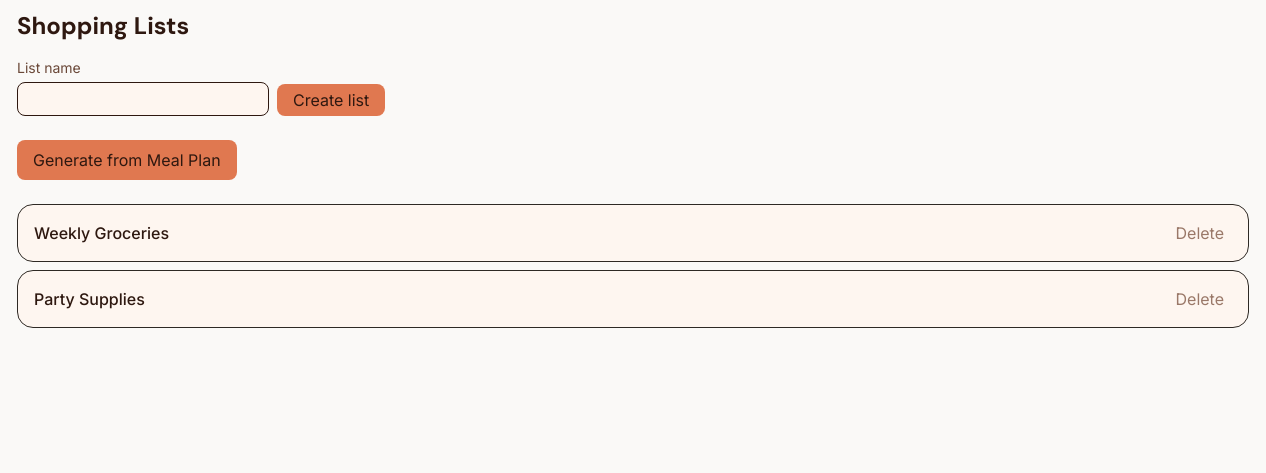
Test: ShoppingListPage › Generate from Meal Plan › should show a week picker after clicking generate button
Check: the button "Weekly Groceries" is shown, box [34,221,169,245]
What coordinates should you click on to do the following:
click the button "Generate from Meal Plan"
I would click on:
 (127, 160)
Its box is [17,140,237,180].
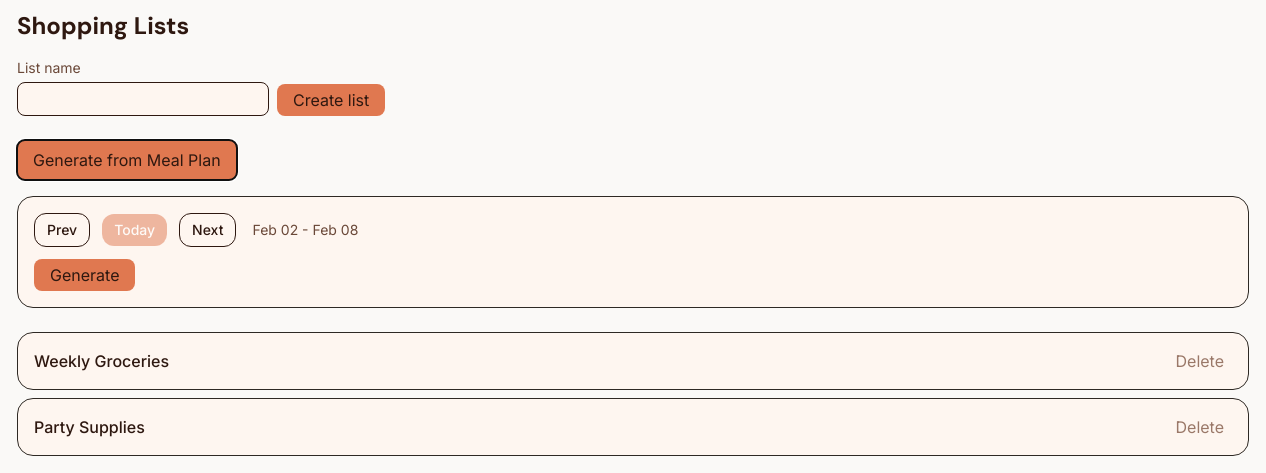
Check: the button with aria-label "previous week" is shown, box [34,213,90,247]
Check: the button with aria-label "next week" is shown, box [179,213,236,247]
